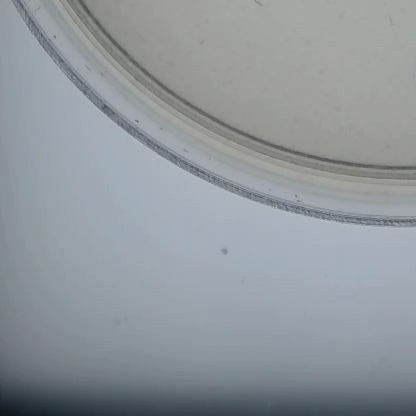worm: (384, 9, 397, 33), (243, 0, 267, 13)
